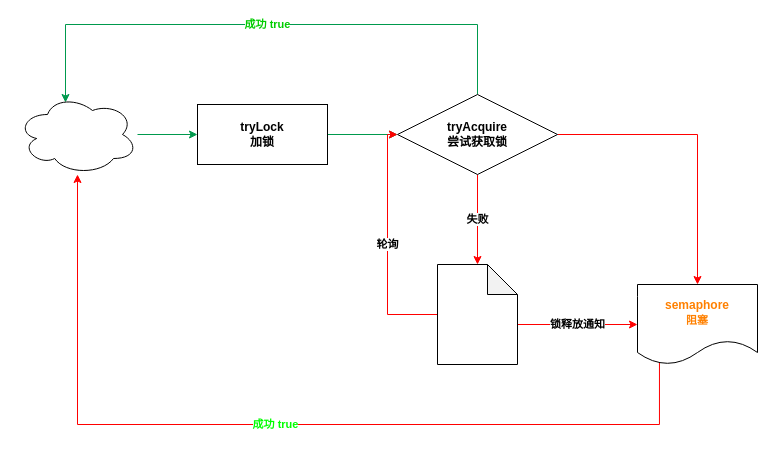
Some shapes in this 775 by 450 pixel diagram are drawn without their labels. Here are the shapes that lost their labels. From the top down, the centre of each, then its label:
At point (77, 134): "Caller".
At point (477, 314): "subscribe 订阅锁释放通知".
